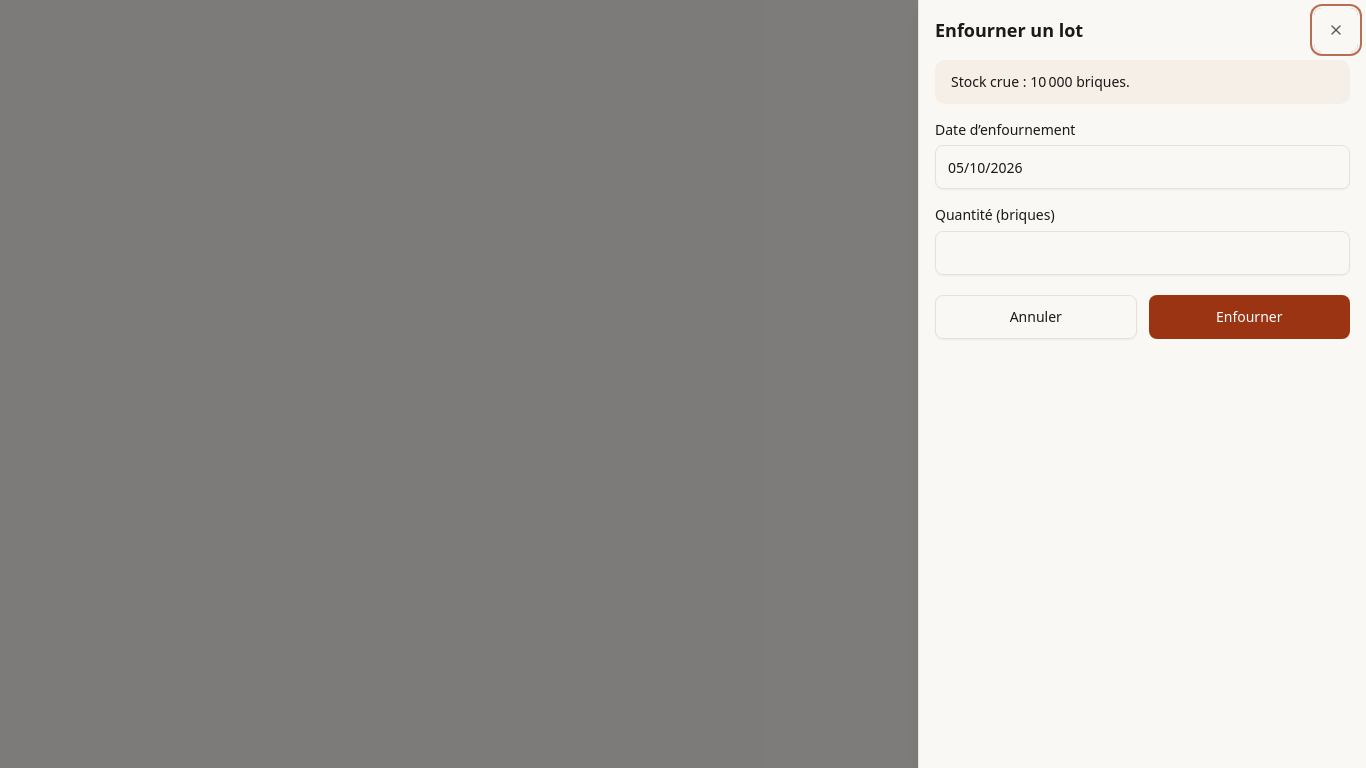
NewKilnBatchPage › shows the API refusal when the raw stock does not cover the batch
The width and height of the screenshot is (1366, 768).
In the field labelled "Quantité (briques)": (1142, 252) [935,230,1350,274], type "40000"
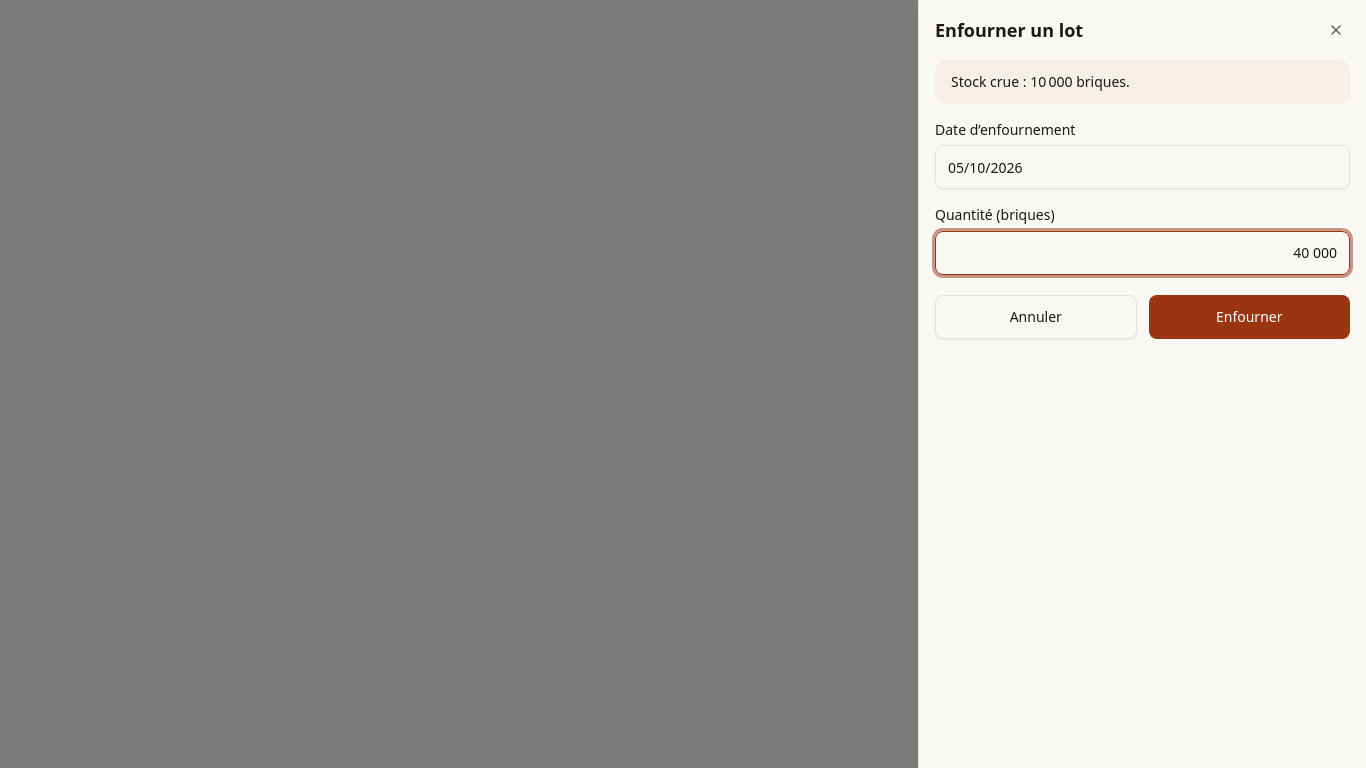
Click the button "Enfourner": (1249, 316) [1148,294,1350,338]
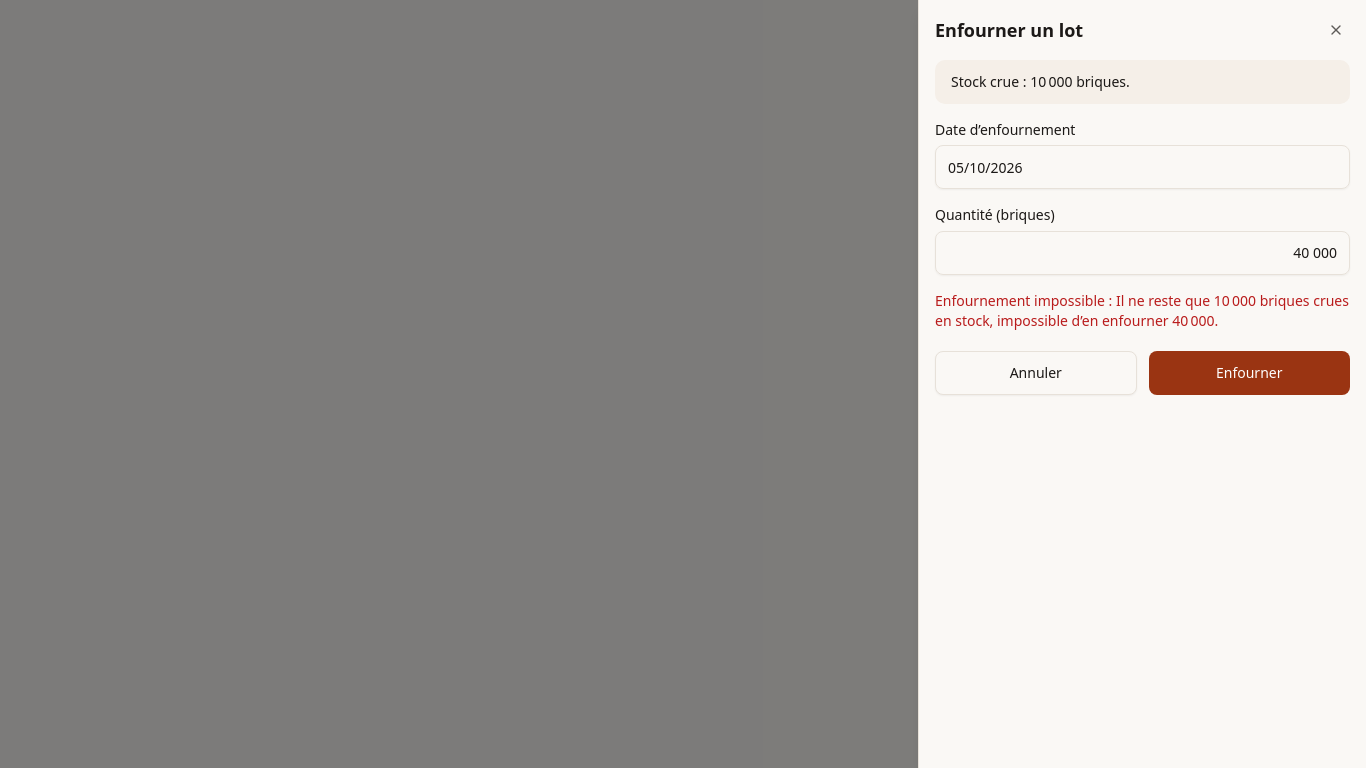
Expected: the message that starts with "Enfournement impossible :" shows "Enfournement impossible : Il ne reste que 10 000 briques crues en stock, impossible d’en enfourner 40 000.", [935,290,1350,330]
